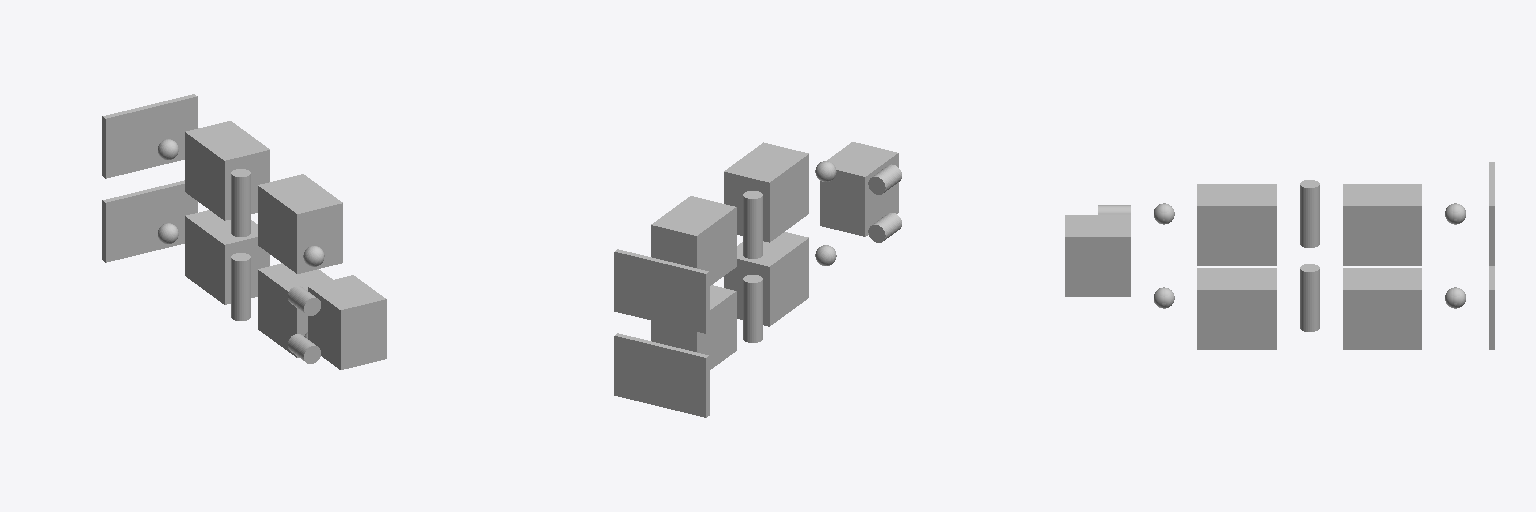
File: Biped_Model.obj
3 renders of one model, left to right at view 1: azimuth 30°, elevation 25°; view 2: azimuth 150°, elevation 25°; view 3: azimuth 270°, elevation 25°, orthographic.
Visible parts, largest first — view 1: Dynamic_Model\Top_Leg_R, Dynamic_Model\Lower_Body, Dynamic_Model\Knee_R, Dynamic_Model\Foot_R, Dynamic_Model\Foot_L, Dynamic_Model\Knee_L, Dynamic_Model\Top_Leg_L, Dynamic_Model\Joint_Knee_R, Dynamic_Model\Joint_Knee_L, Dynamic_Model\Joint_Hit_R, Dynamic_Model\Joint_Hit_L; view 2: Dynamic_Model\Foot_R, Dynamic_Model\Foot_L, Dynamic_Model\Top_Leg_R, Dynamic_Model\Knee_R, Dynamic_Model\Lower_Body, Dynamic_Model\Top_Leg_L, Dynamic_Model\Knee_L, Dynamic_Model\Joint_Knee_R, Dynamic_Model\Joint_Knee_L, Dynamic_Model\Joint_Hit_L, Dynamic_Model\Joint_Hit_R; view 3: Dynamic_Model\Top_Leg_R, Dynamic_Model\Top_Leg_L, Dynamic_Model\Knee_R, Dynamic_Model\Knee_L, Dynamic_Model\Lower_Body, Dynamic_Model\Joint_Knee_R, Dynamic_Model\Joint_Knee_L, Dynamic_Model\Foot_R.
Boxes of the visible parts, x1=… form: Dynamic_Model\Top_Leg_R: x1=258, y1=174, x2=342, y2=273; Dynamic_Model\Lower_Body: x1=308, y1=275, x2=386, y2=369; Dynamic_Model\Knee_R: x1=185, y1=121, x2=269, y2=220; Dynamic_Model\Foot_R: x1=102, y1=94, x2=197, y2=178; Dynamic_Model\Foot_L: x1=102, y1=180, x2=197, y2=262; Dynamic_Model\Knee_L: x1=185, y1=210, x2=269, y2=304; Dynamic_Model\Top_Leg_L: x1=258, y1=263, x2=332, y2=357; Dynamic_Model\Joint_Knee_R: x1=231, y1=169, x2=250, y2=236; Dynamic_Model\Joint_Knee_L: x1=231, y1=253, x2=250, y2=320; Dynamic_Model\Joint_Hit_R: x1=288, y1=286, x2=320, y2=315; Dynamic_Model\Joint_Hit_L: x1=288, y1=334, x2=320, y2=363; Dynamic_Model\Foot_R: x1=614, y1=249, x2=709, y2=333; Dynamic_Model\Foot_L: x1=614, y1=333, x2=709, y2=417; Dynamic_Model\Top_Leg_R: x1=724, y1=142, x2=808, y2=242; Dynamic_Model\Knee_R: x1=651, y1=196, x2=736, y2=285; Dynamic_Model\Lower_Body: x1=820, y1=142, x2=898, y2=236; Dynamic_Model\Top_Leg_L: x1=724, y1=232, x2=808, y2=326; Dynamic_Model\Knee_L: x1=651, y1=285, x2=736, y2=369; Dynamic_Model\Joint_Knee_R: x1=743, y1=191, x2=762, y2=258; Dynamic_Model\Joint_Knee_L: x1=743, y1=275, x2=762, y2=342; Dynamic_Model\Joint_Hit_L: x1=868, y1=213, x2=901, y2=242; Dynamic_Model\Joint_Hit_R: x1=868, y1=164, x2=901, y2=194; Dynamic_Model\Top_Leg_R: x1=1197, y1=184, x2=1276, y2=265; Dynamic_Model\Top_Leg_L: x1=1197, y1=268, x2=1276, y2=349; Dynamic_Model\Knee_R: x1=1343, y1=184, x2=1421, y2=265; Dynamic_Model\Knee_L: x1=1343, y1=268, x2=1421, y2=349; Dynamic_Model\Lower_Body: x1=1065, y1=215, x2=1130, y2=296; Dynamic_Model\Joint_Knee_R: x1=1300, y1=180, x2=1319, y2=247; Dynamic_Model\Joint_Knee_L: x1=1300, y1=264, x2=1319, y2=331; Dynamic_Model\Foot_R: x1=1489, y1=162, x2=1494, y2=265.
Bounding box in the file's own units: 80 × 120 × 325.